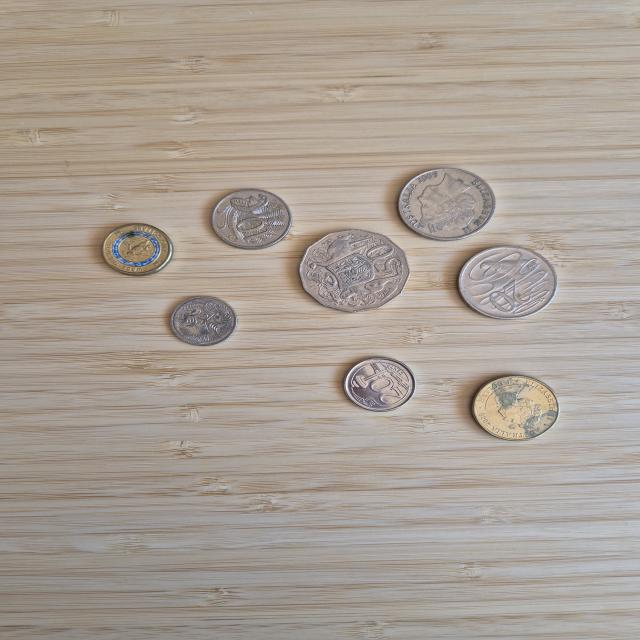1-dollar: (469, 374, 561, 446)
10-cents: (196, 181, 300, 252)
2-dollar: (95, 222, 179, 278)
20-cents: (393, 167, 498, 243), (457, 249, 557, 320)
5-cents: (335, 356, 416, 417), (161, 295, 239, 351)
50-cents: (299, 229, 407, 316)
